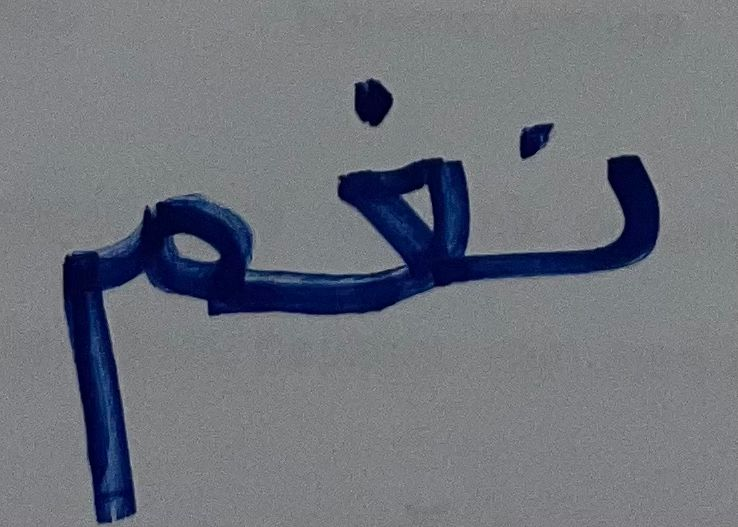feh: (286, 59, 482, 329)
meem: (26, 186, 278, 526)
noon: (486, 97, 685, 306)
